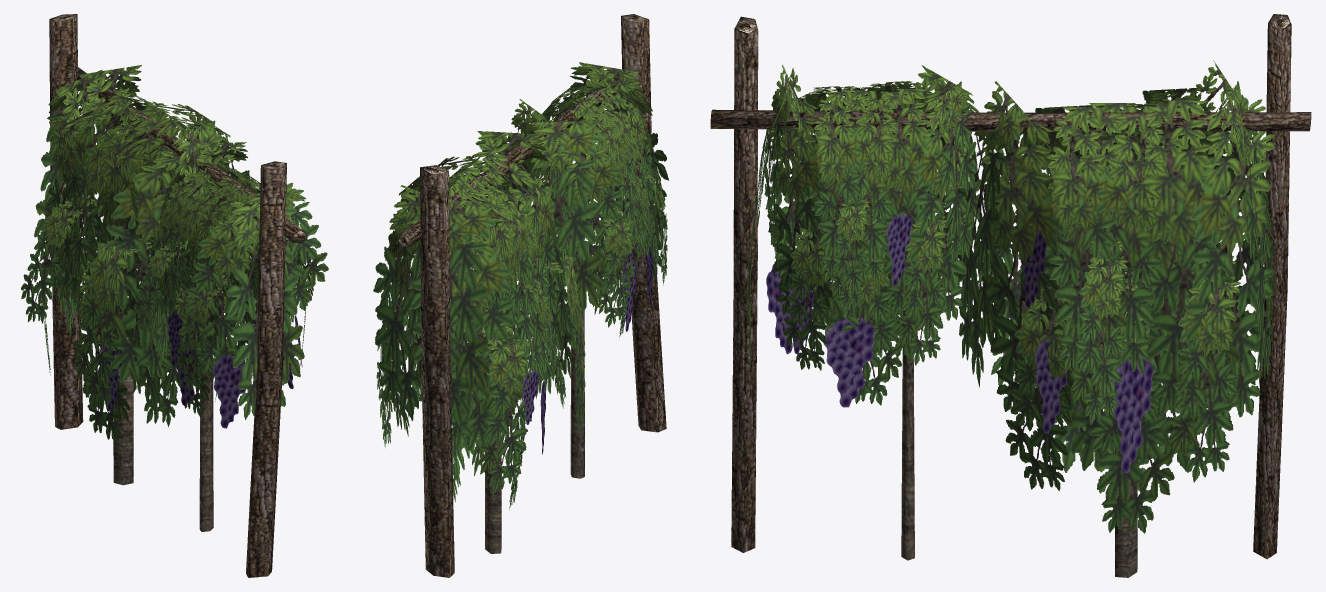
The model's file is grape_bush.glb.
3 renders of one model, left to right at view 1: azimuth 30°, elevation 25°; view 2: azimuth 150°, elevation 25°; view 3: azimuth 270°, elevation 25°, orthographic. The views are drawn at different scales.
Visible parts, largest first — view 1: grape_bush; view 2: grape_bush; view 3: grape_bush.
Boxes of the visible parts, box(x1,y1,x2,y2) form: grape_bush: box(21, 14, 328, 577); grape_bush: box(373, 14, 668, 577); grape_bush: box(710, 14, 1311, 577).
Size of the model in its own units: 2.42 by 4.8 by 4.74.
1 material, 1 textured.
